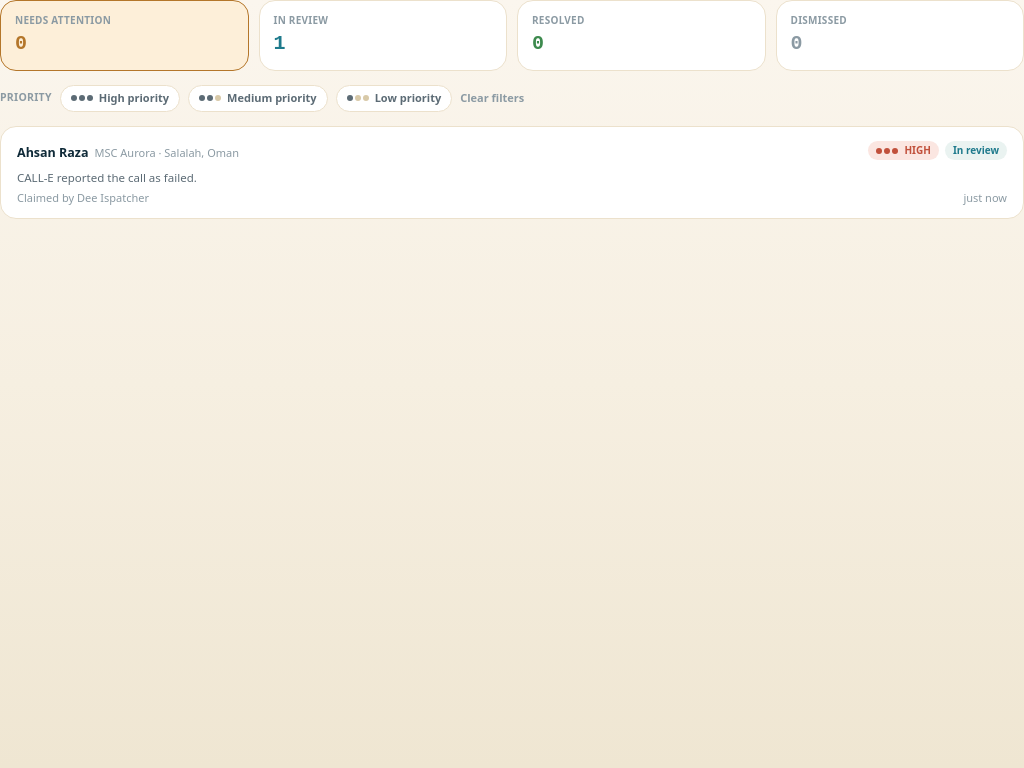
YellowZonePage — resolve › shows Resolve and Release for an item claimed by the current user, not Claim
Step 1. Click the text "Ahsan Raza" → (53, 152), box [17,144,88,160]
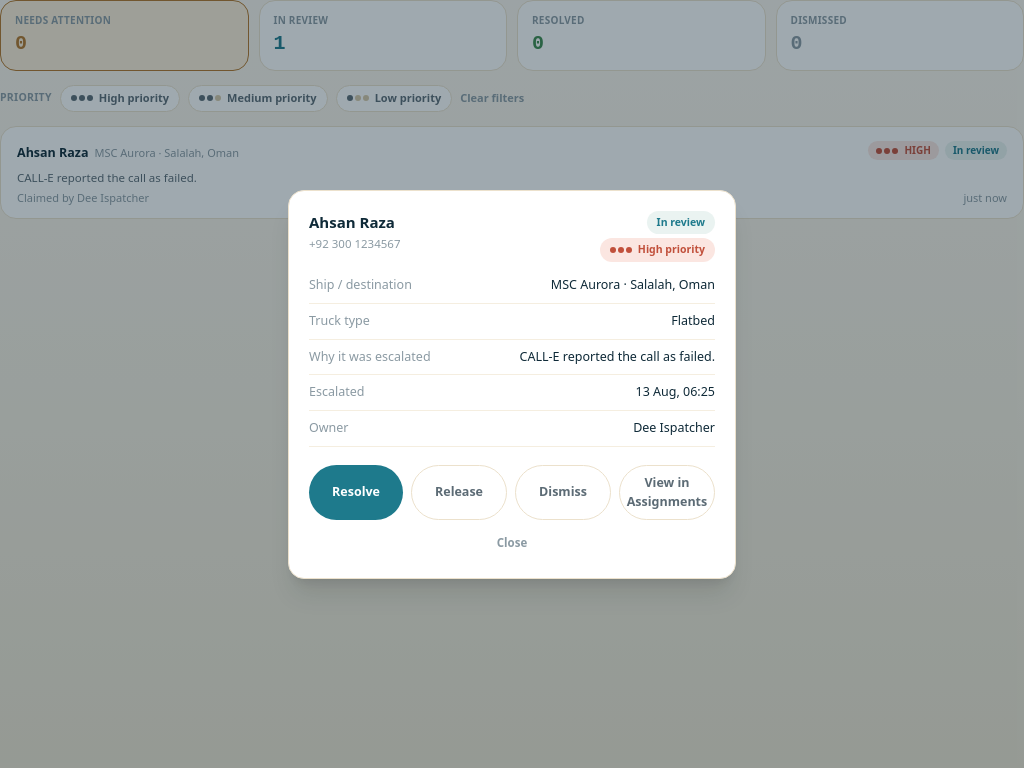
Expected: the button "Resolve" is shown, [309,465,403,520]
Expected: the button "Release" is shown, [411,465,507,520]
